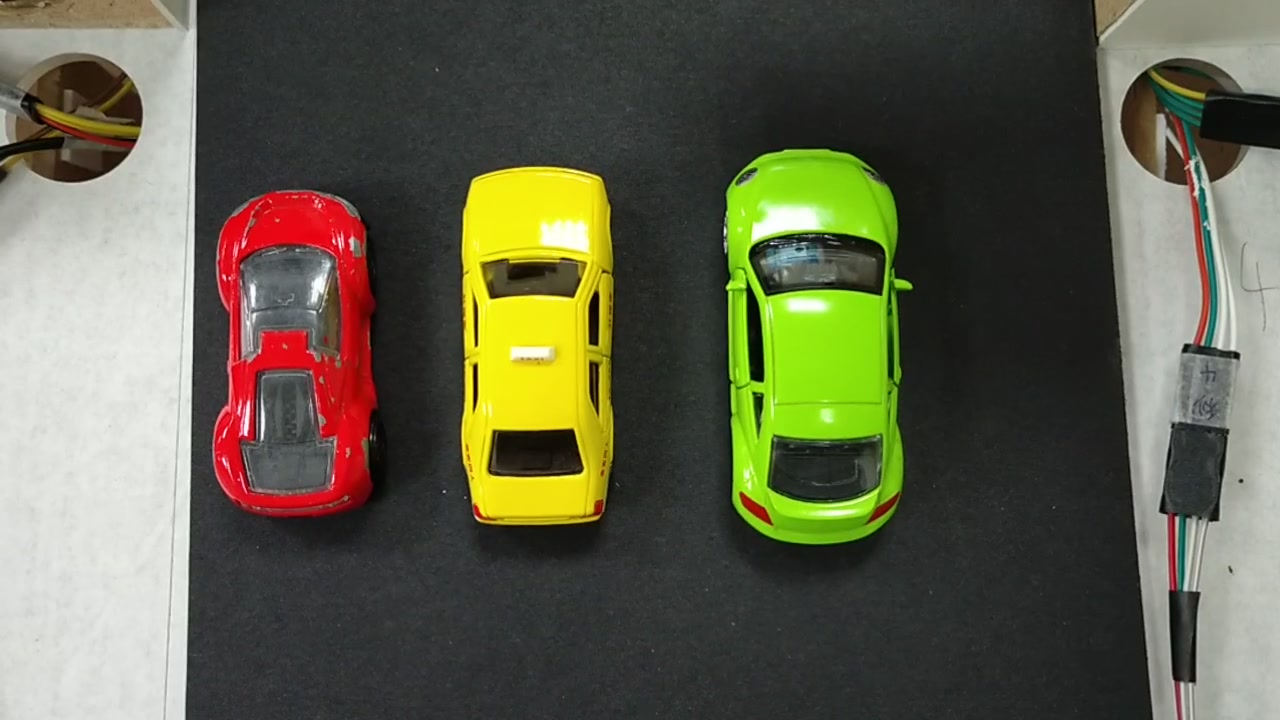car: (730, 148, 899, 538), (459, 165, 612, 523), (218, 191, 376, 514)
